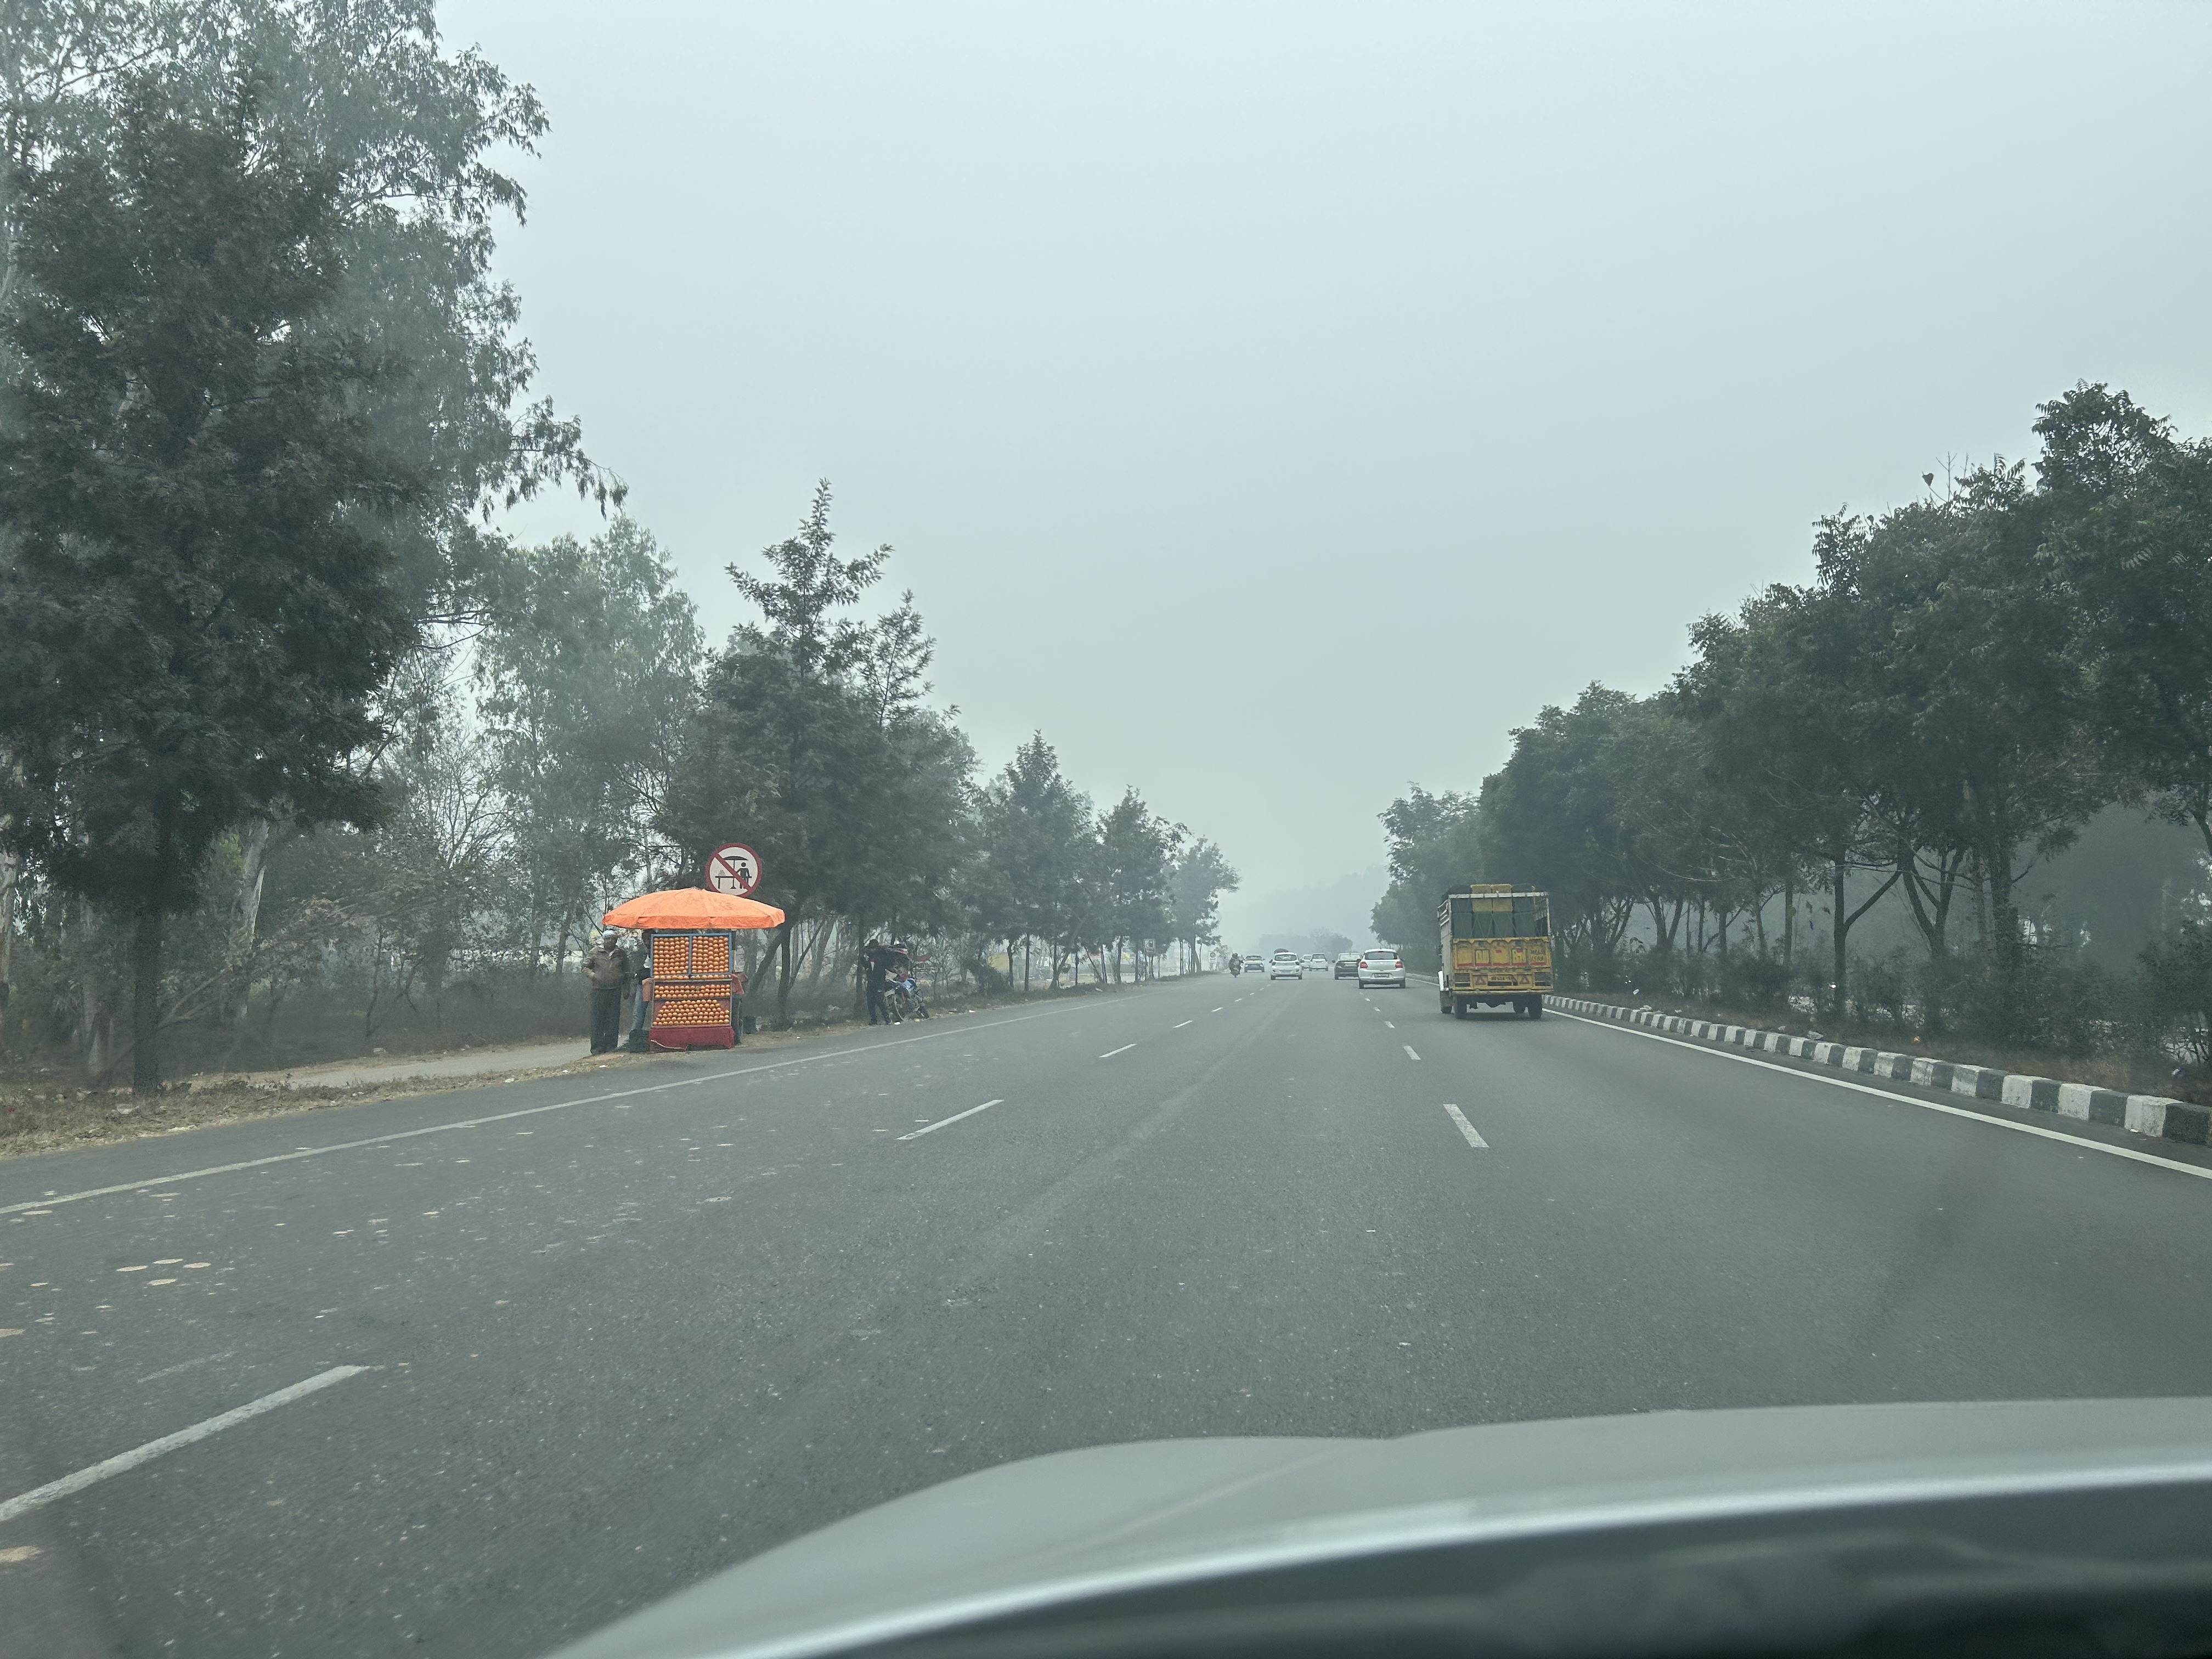Mandatory: (688, 836, 775, 903)
